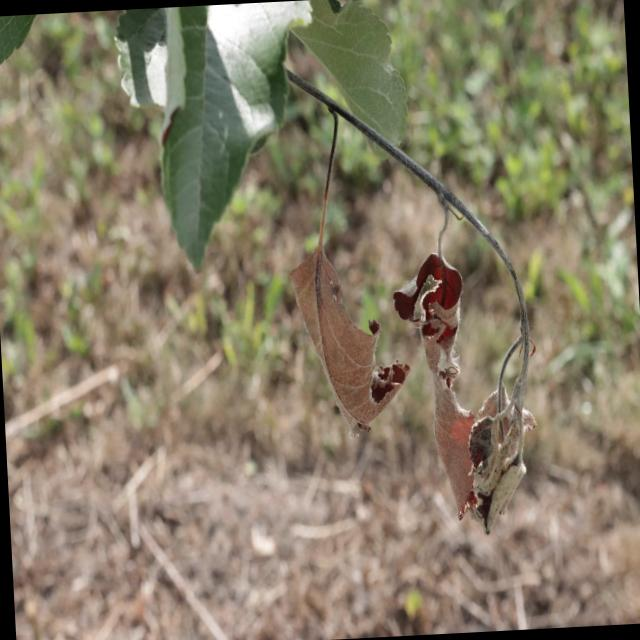-FireBlight-: (286, 231, 531, 534)
